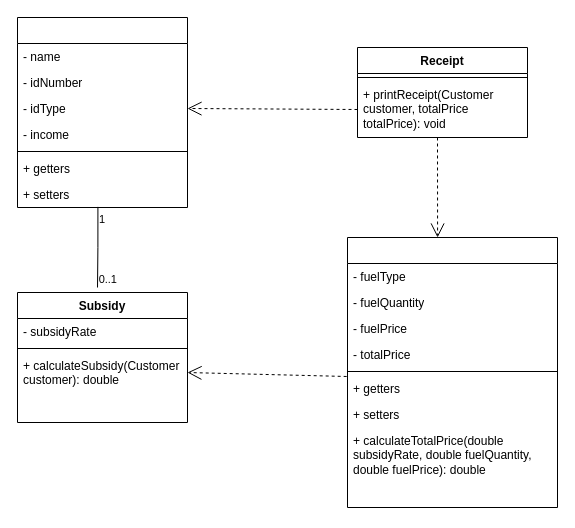
Some shapes in this 575 by 528 pixel diagram are drawn without their labels. The shapes that lost their labels are listed below. From the top down, each one's box as (x1, y1, x2, y2) in pixels, then its label:
(16, 16, 188, 208): Customer
(346, 236, 558, 508): CalculatePrice
